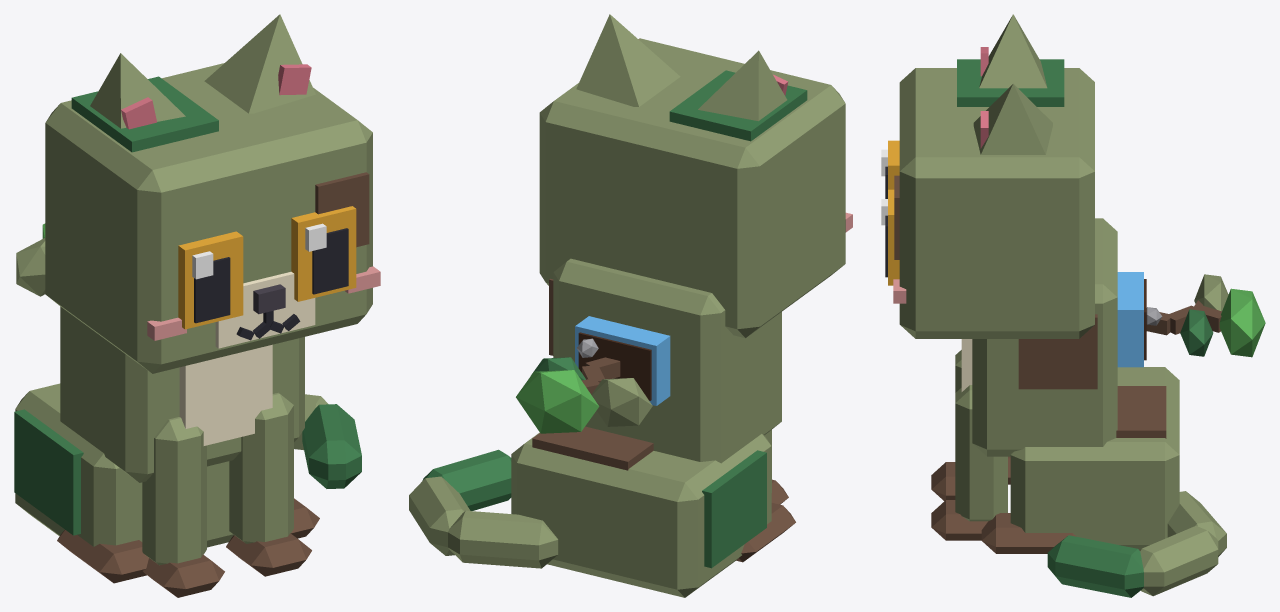
File: CatCafe_Cat_Bonsai_Sit.fbx
3 views of the same model, side by side, from view 1: azimuth 30°, elevation 25°; view 2: azimuth 150°, elevation 25°; view 3: azimuth 270°, elevation 25° (orthographic). The views are drawn at different scales.
Parts seen in each view (by area): view 1: CatCafe_Cat_Bonsai_Sit_Head, CatCafe_Cat_Bonsai_Sit_Body, CatCafe_Cat_Bonsai_Sit_LegF2, CatCafe_Cat_Bonsai_Sit_LegF1, CatCafe_Cat_Bonsai_Sit_EarL, CatCafe_Cat_Bonsai_Sit_Eye2, CatCafe_Cat_Bonsai_Sit_Eye1, CatCafe_Cat_Bonsai_Sit_Tail, CatCafe_Cat_Bonsai_Sit_EarR, CatCafe_Cat_Bonsai_Sit_Prop; view 2: CatCafe_Cat_Bonsai_Sit_Head, CatCafe_Cat_Bonsai_Sit_Body, CatCafe_Cat_Bonsai_Sit_Prop, CatCafe_Cat_Bonsai_Sit_Tail, CatCafe_Cat_Bonsai_Sit_EarL, CatCafe_Cat_Bonsai_Sit_EarR; view 3: CatCafe_Cat_Bonsai_Sit_Head, CatCafe_Cat_Bonsai_Sit_Body, CatCafe_Cat_Bonsai_Sit_Tail, CatCafe_Cat_Bonsai_Sit_Prop, CatCafe_Cat_Bonsai_Sit_LegF1, CatCafe_Cat_Bonsai_Sit_EarL, CatCafe_Cat_Bonsai_Sit_EarR, CatCafe_Cat_Bonsai_Sit_Eye1, CatCafe_Cat_Bonsai_Sit_LegF2, CatCafe_Cat_Bonsai_Sit_Eye2.
Boxes of the visible parts, x1=… form: CatCafe_Cat_Bonsai_Sit_Head: x1=45, y1=63, x2=380, y2=373; CatCafe_Cat_Bonsai_Sit_Body: x1=14, y1=306, x2=319, y2=583; CatCafe_Cat_Bonsai_Sit_LegF2: x1=142, y1=417, x2=224, y2=597; CatCafe_Cat_Bonsai_Sit_LegF1: x1=226, y1=392, x2=311, y2=576; CatCafe_Cat_Bonsai_Sit_EarL: x1=204, y1=14, x2=315, y2=113; CatCafe_Cat_Bonsai_Sit_Eye2: x1=178, y1=231, x2=243, y2=329; CatCafe_Cat_Bonsai_Sit_Eye1: x1=291, y1=206, x2=356, y2=301; CatCafe_Cat_Bonsai_Sit_Tail: x1=294, y1=394, x2=361, y2=488; CatCafe_Cat_Bonsai_Sit_EarR: x1=90, y1=53, x2=185, y2=129; CatCafe_Cat_Bonsai_Sit_Prop: x1=16, y1=223, x2=45, y2=296; CatCafe_Cat_Bonsai_Sit_Head: x1=539, y1=38, x2=852, y2=337; CatCafe_Cat_Bonsai_Sit_Body: x1=511, y1=258, x2=795, y2=597; CatCafe_Cat_Bonsai_Sit_Prop: x1=516, y1=316, x2=670, y2=433; CatCafe_Cat_Bonsai_Sit_Tail: x1=409, y1=449, x2=558, y2=568; CatCafe_Cat_Bonsai_Sit_EarL: x1=576, y1=14, x2=680, y2=106; CatCafe_Cat_Bonsai_Sit_EarR: x1=698, y1=50, x2=788, y2=121; CatCafe_Cat_Bonsai_Sit_Head: x1=893, y1=59, x2=1094, y2=338; CatCafe_Cat_Bonsai_Sit_Body: x1=961, y1=218, x2=1179, y2=553; CatCafe_Cat_Bonsai_Sit_Tail: x1=1047, y1=491, x2=1226, y2=597; CatCafe_Cat_Bonsai_Sit_Prop: x1=1117, y1=272, x2=1265, y2=367; CatCafe_Cat_Bonsai_Sit_LegF1: x1=931, y1=385, x2=1007, y2=540; CatCafe_Cat_Bonsai_Sit_EarL: x1=973, y1=83, x2=1052, y2=154; CatCafe_Cat_Bonsai_Sit_EarR: x1=979, y1=14, x2=1047, y2=88; CatCafe_Cat_Bonsai_Sit_Eye1: x1=881, y1=189, x2=899, y2=285; CatCafe_Cat_Bonsai_Sit_LegF2: x1=931, y1=350, x2=961, y2=501; CatCafe_Cat_Bonsai_Sit_Eye2: x1=881, y1=140, x2=899, y2=198.
Size of the model in its own units: 1.24 by 1.85 by 1.38.
1 material, 1 textured.
